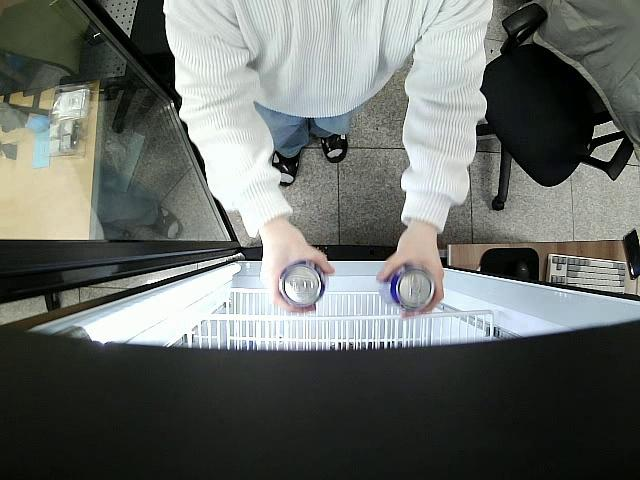00_hand: (376, 229, 446, 321), (259, 242, 334, 315)
14_welchsGrape: (378, 263, 436, 312), (279, 259, 327, 308)
